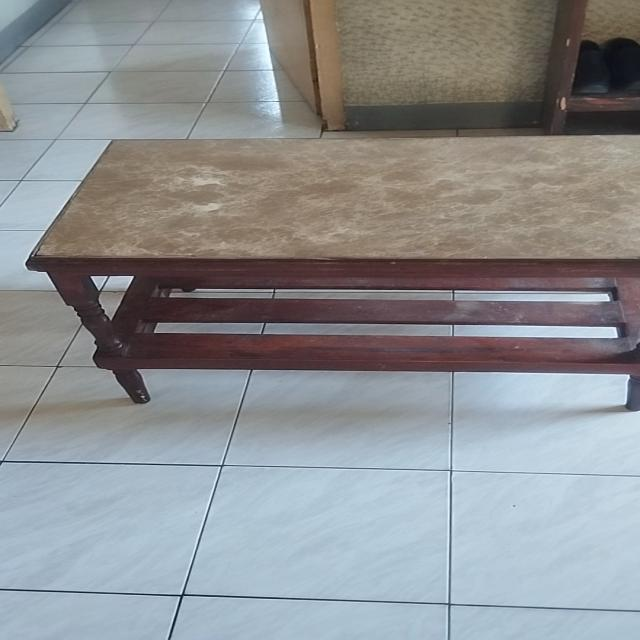table: (16, 131, 640, 419)
